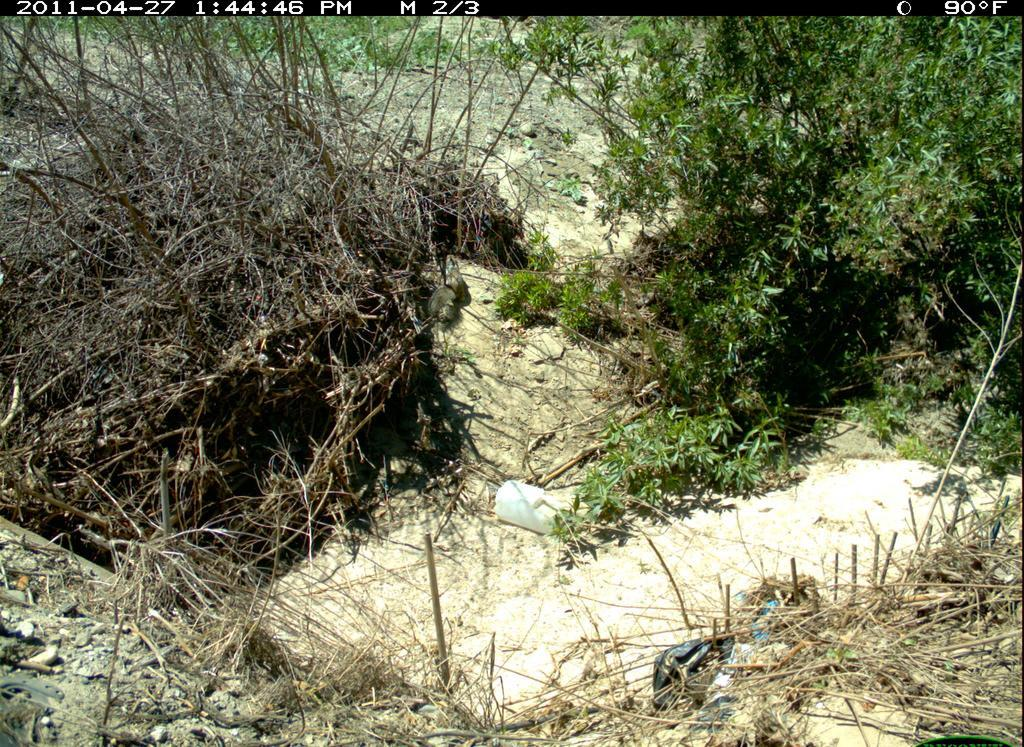squirrel: (419, 250, 513, 372)
